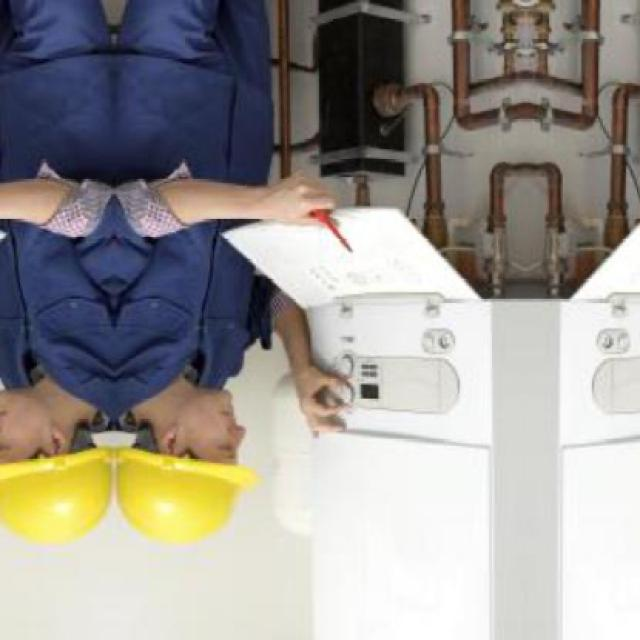con casco: (1, 356, 114, 562), (130, 379, 267, 539)
